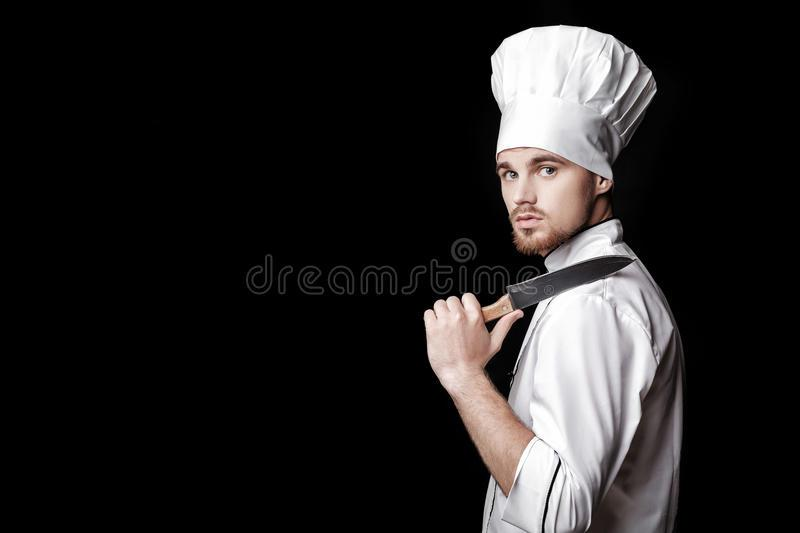criminal: (425, 21, 687, 533)
weapon: (475, 250, 640, 325)
